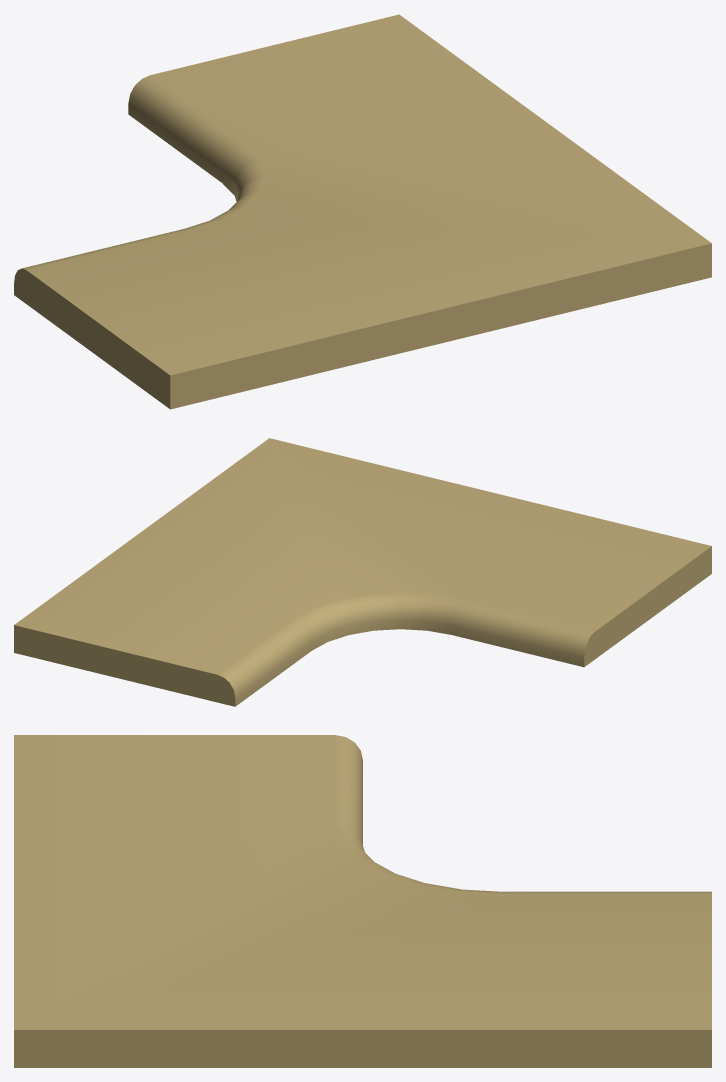
Rendered from Dark_Soil_Tile_1_2_3.fbx.
3 views of the same model, one above another, from view 1: azimuth 30°, elevation 25°; view 2: azimuth 150°, elevation 25°; view 3: azimuth 270°, elevation 25° (orthographic). The views are drawn at different scales.
Visible parts, largest first — view 1: Corner_1_2_3; view 2: Corner_1_2_3; view 3: Corner_1_2_3.
Part boxes in pixels (left/top/right/bottom): Corner_1_2_3: left=14, top=14, right=711, bottom=409; Corner_1_2_3: left=14, top=438, right=711, bottom=706; Corner_1_2_3: left=14, top=735, right=711, bottom=1067.
Size of the model in its own units: 1 by 1 by 0.06.
